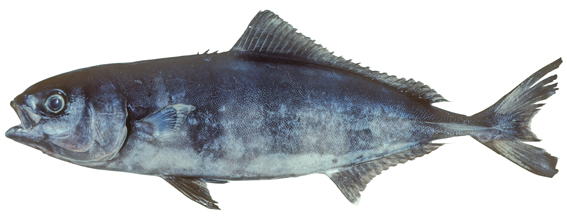fish: (5, 10, 563, 210)
